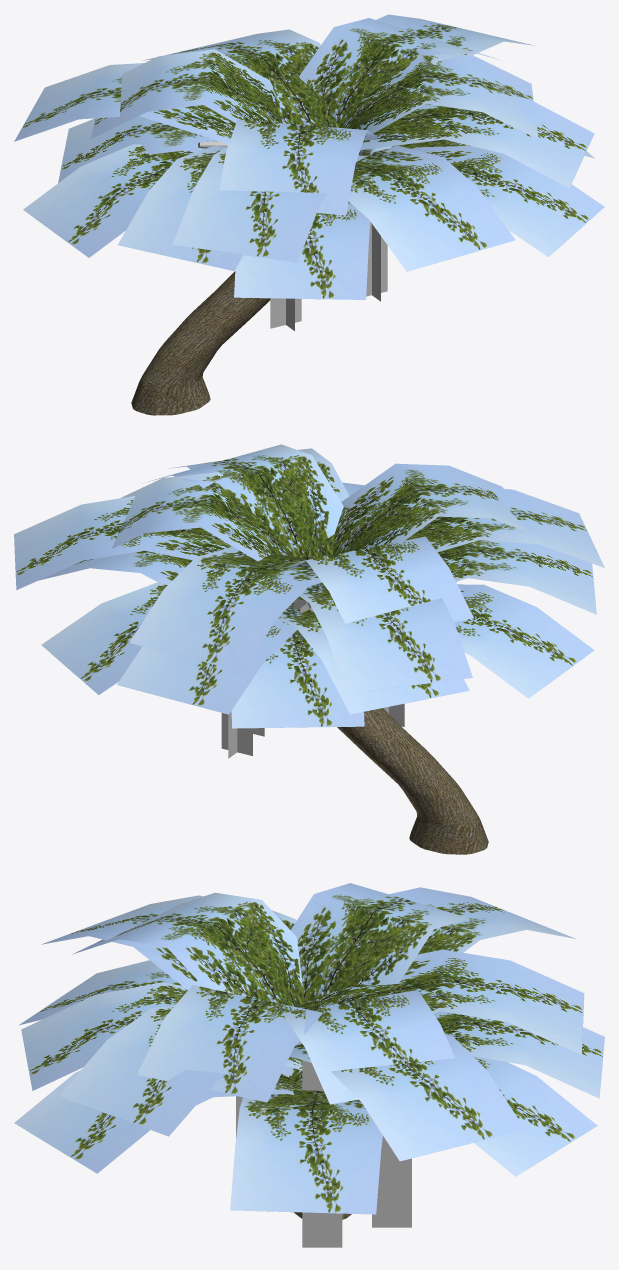
The model's file is Tree01.fbx.
3 renders of one model, top to bottom at view 1: azimuth 30°, elevation 25°; view 2: azimuth 150°, elevation 25°; view 3: azimuth 270°, elevation 25°, orthographic. The views are drawn at different scales.
Visible parts, largest first — view 1: polySurface51; view 2: polySurface51; view 3: polySurface51.
Boxes of the visible parts, x1,y1,x2,y2 form: polySurface51: (14,14,604,415); polySurface51: (14,444,604,854); polySurface51: (14,883,604,1247).
Size of the model in its own units: 485 by 265 by 437.
